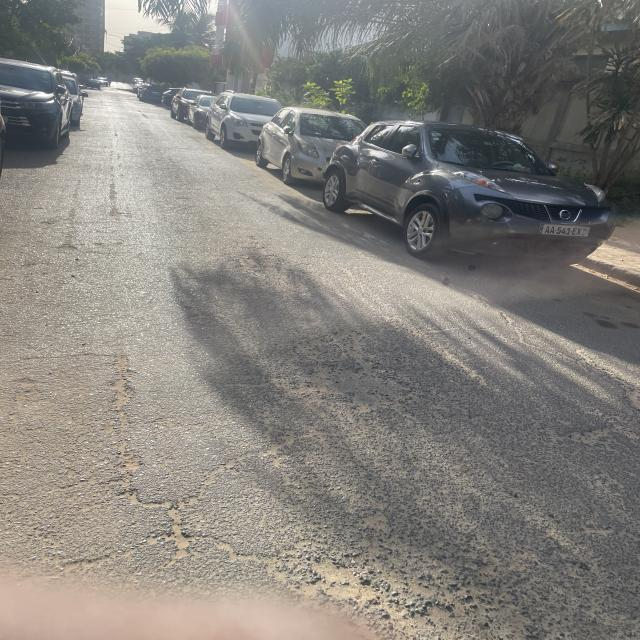particulier: (324, 121, 614, 264), (256, 109, 368, 185), (1, 60, 73, 150), (208, 92, 283, 150), (63, 72, 89, 127), (171, 90, 213, 122), (188, 96, 218, 131), (139, 86, 164, 104), (86, 80, 103, 91)
